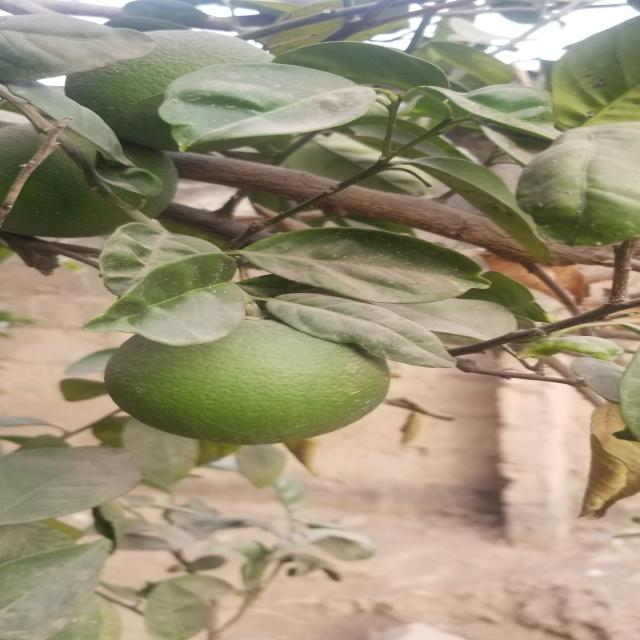Unripe: (108, 316, 388, 441), (7, 108, 166, 240)
